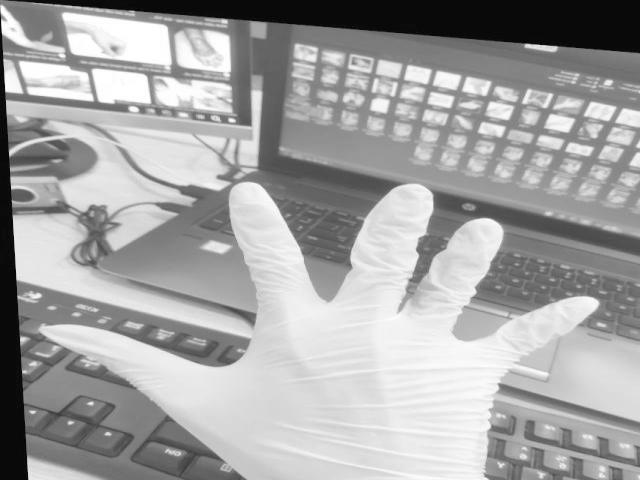gloved: (45, 184, 594, 480)
